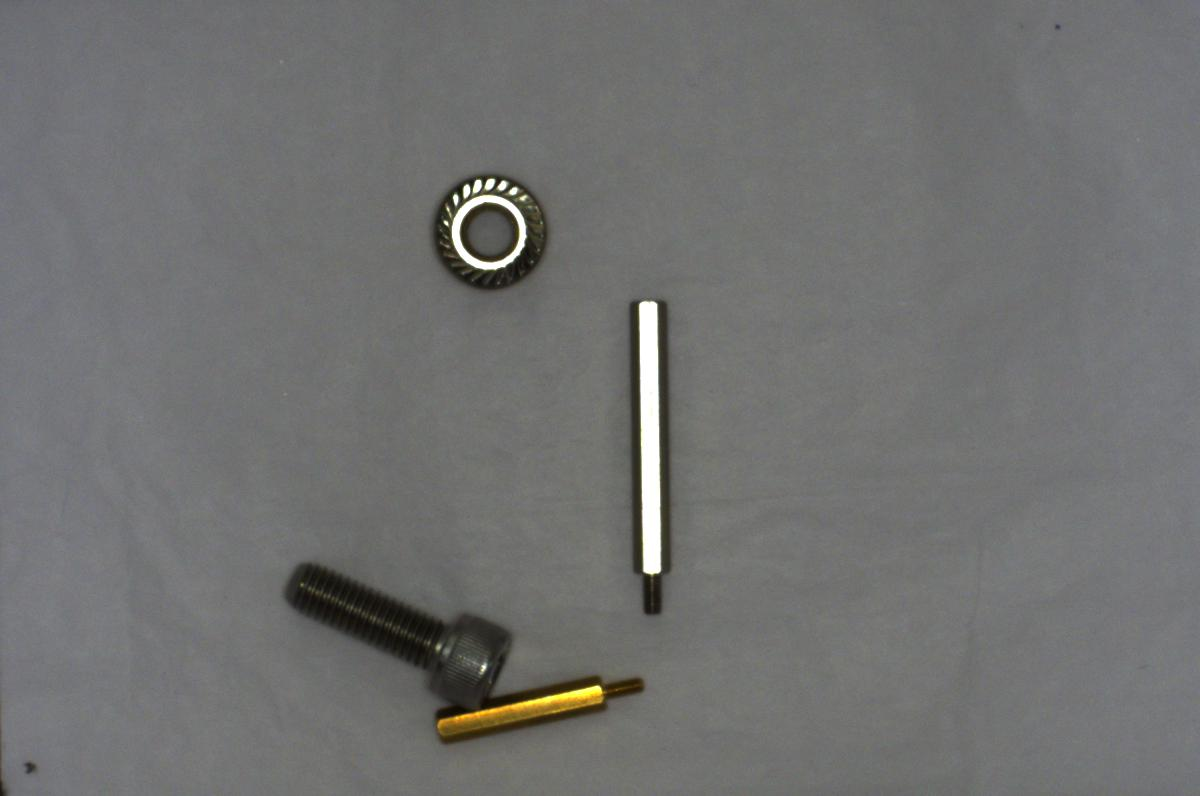Flange nut: (418, 170, 561, 299)
Hexagon pillar: (433, 673, 653, 746)
Hexagon screw: (271, 555, 514, 712)
Hexagonal steel column: (619, 290, 695, 621)
